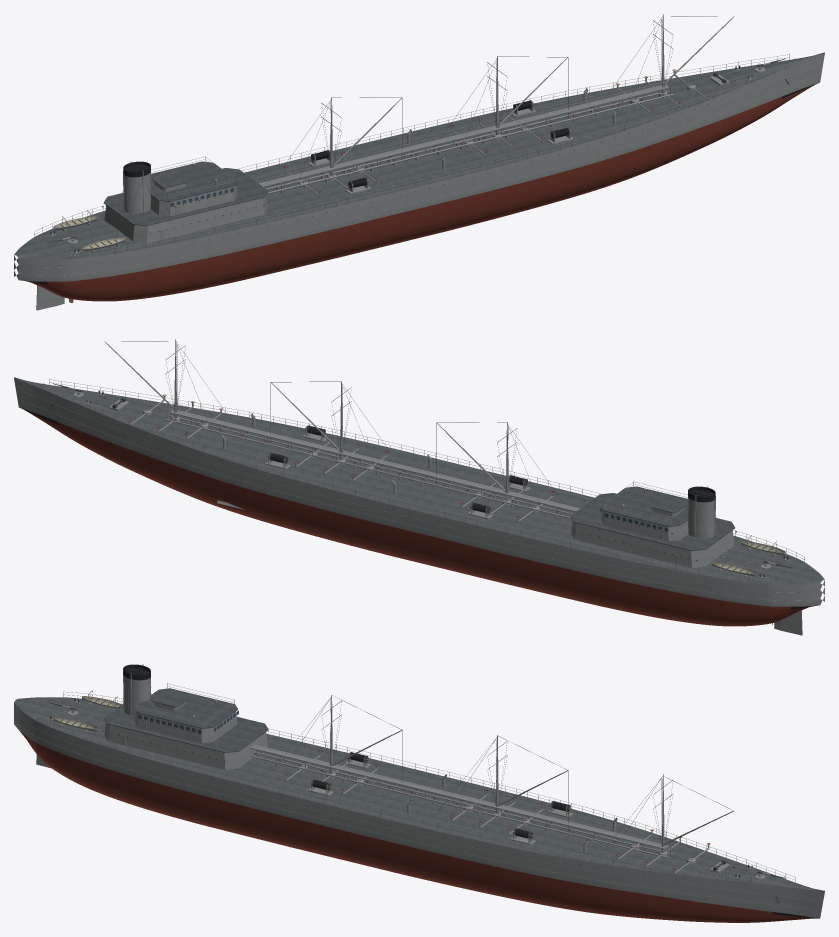
The model's file is fallback-ao.glb.
3 renders of one model, top to bottom at view 1: azimuth 30°, elevation 25°; view 2: azimuth 150°, elevation 25°; view 3: azimuth 330°, elevation 25°, orthographic.
Visible parts, largest first — view 1: Original AO custom-design concept; view 2: Original AO custom-design concept; view 3: Original AO custom-design concept.
Boxes of the visible parts, x1=… form: Original AO custom-design concept: x1=14, y1=14, x2=824, y2=310; Original AO custom-design concept: x1=14, y1=339, x2=824, y2=635; Original AO custom-design concept: x1=14, y1=664, x2=824, y2=922.
Bounding box in the file's own units: 144 × 24.9 × 18.09.
10 materials, 9 textured.
